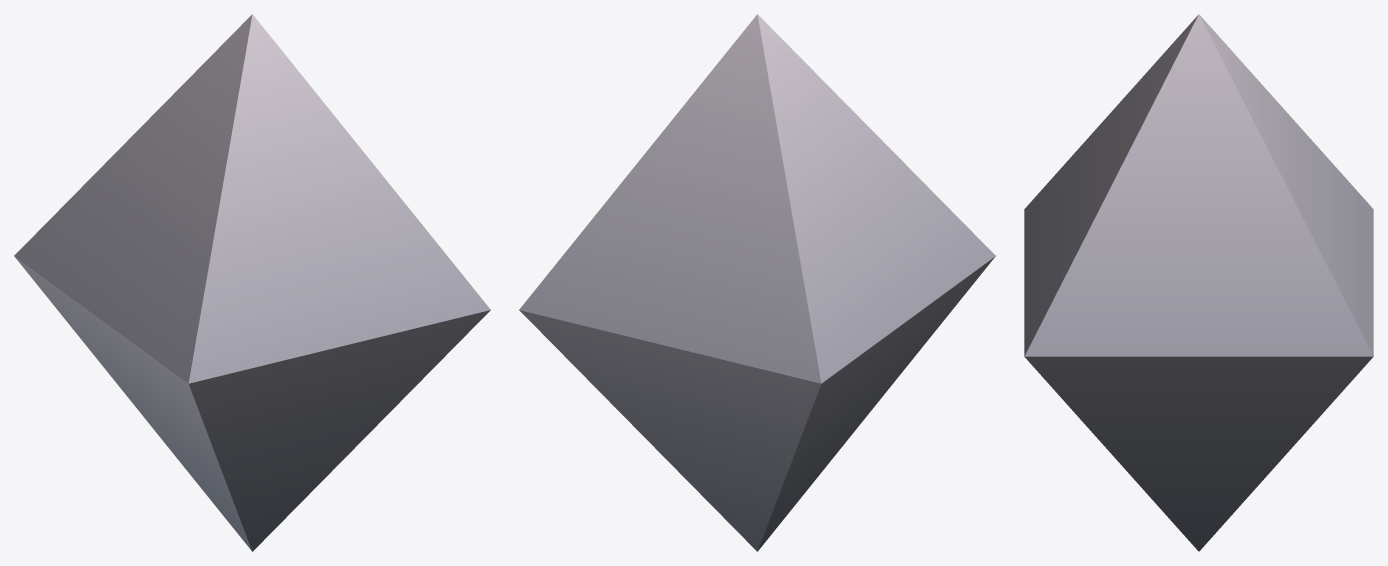
The model's file is Cuboid.fbx.
The picture shows the model from 3 angles, left to right: view 1: azimuth 30°, elevation 25°; view 2: azimuth 150°, elevation 25°; view 3: azimuth 270°, elevation 25°; orthographic projection.
Visible parts, largest first — view 1: Cuboid; view 2: Cuboid; view 3: Cuboid.
Part boxes in pixels (<box>): Cuboid: <box>14,14,490,551</box>; Cuboid: <box>519,14,995,551</box>; Cuboid: <box>1024,14,1373,551</box>.
Bounding box in the file's own units: 144 × 245 × 144.
